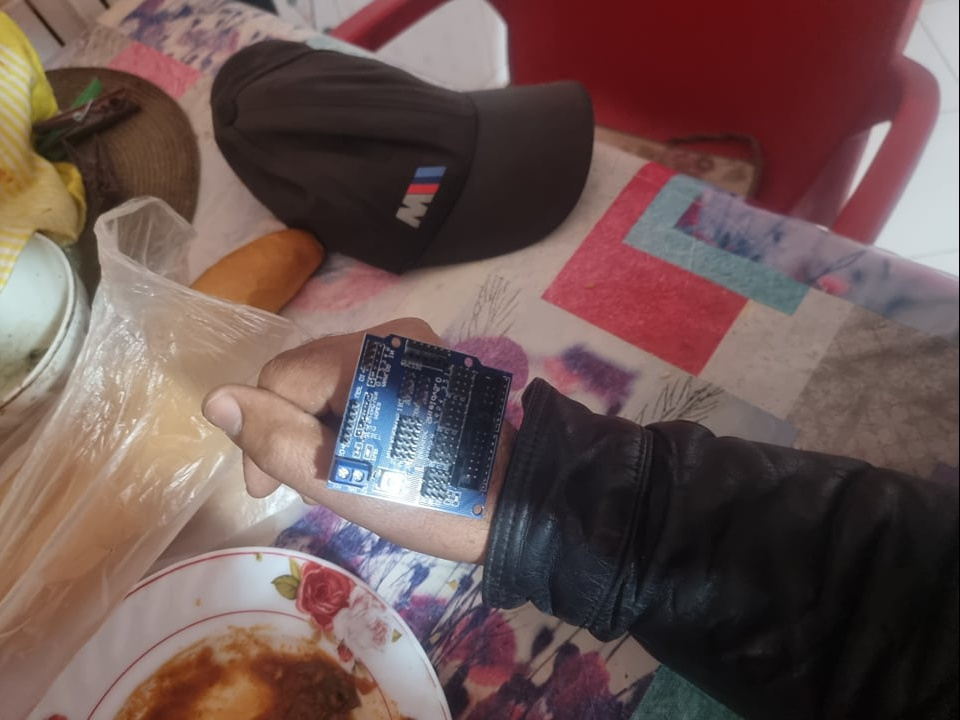5V EXPANSION: (322, 329, 515, 522)
